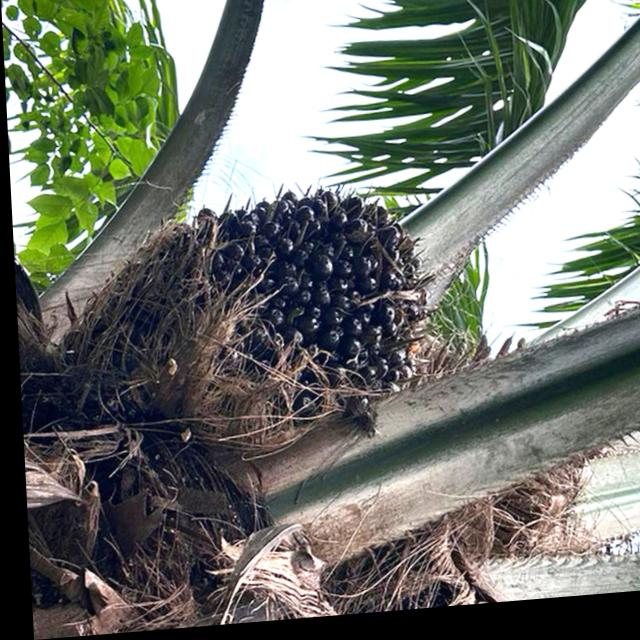almost: (125, 194, 451, 458)
